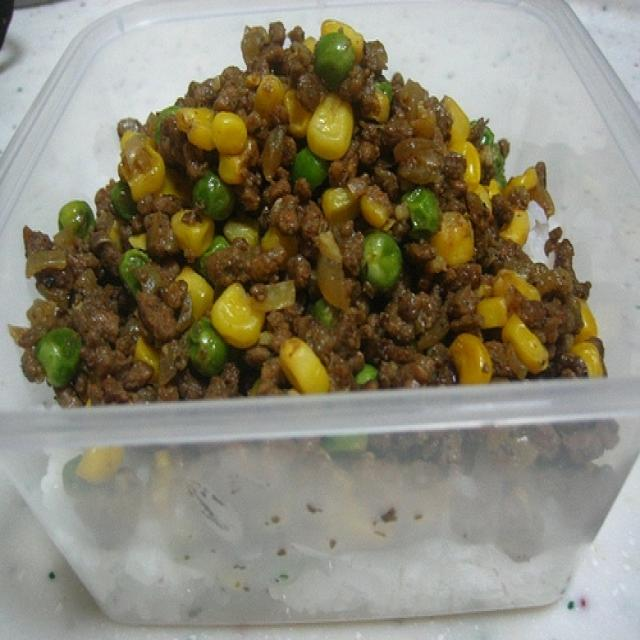蔬菜料理: (8, 12, 631, 602)
